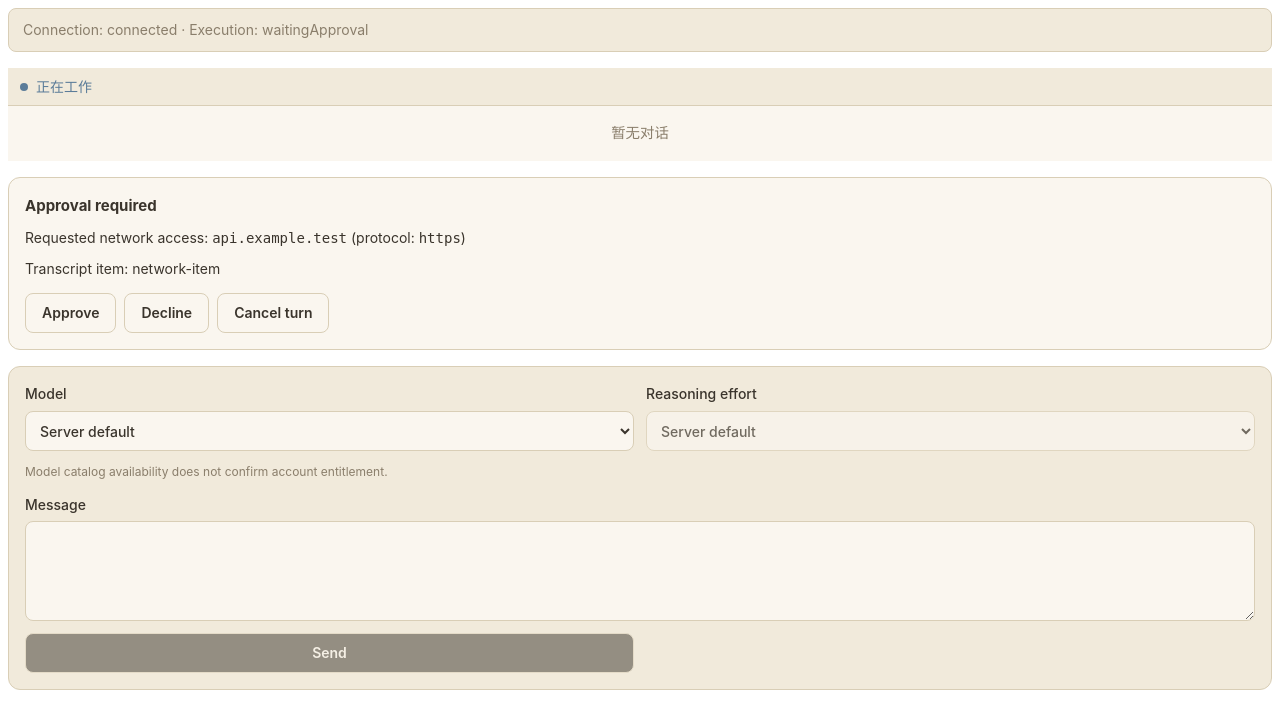
Test: CodexSession › shows a context-only https network approval and preserves reply identity
The image size is (1280, 720).
Expected: the element named "Request network-request" shows "Transcript item: network-item", top-left (8, 177), bottom-right (1272, 350)
Expected: the button "Decline" is enabled, top-left (124, 293), bottom-right (209, 333)
Click the button "Approve". click: (71, 313)
box: top-left (25, 293), bottom-right (116, 333)
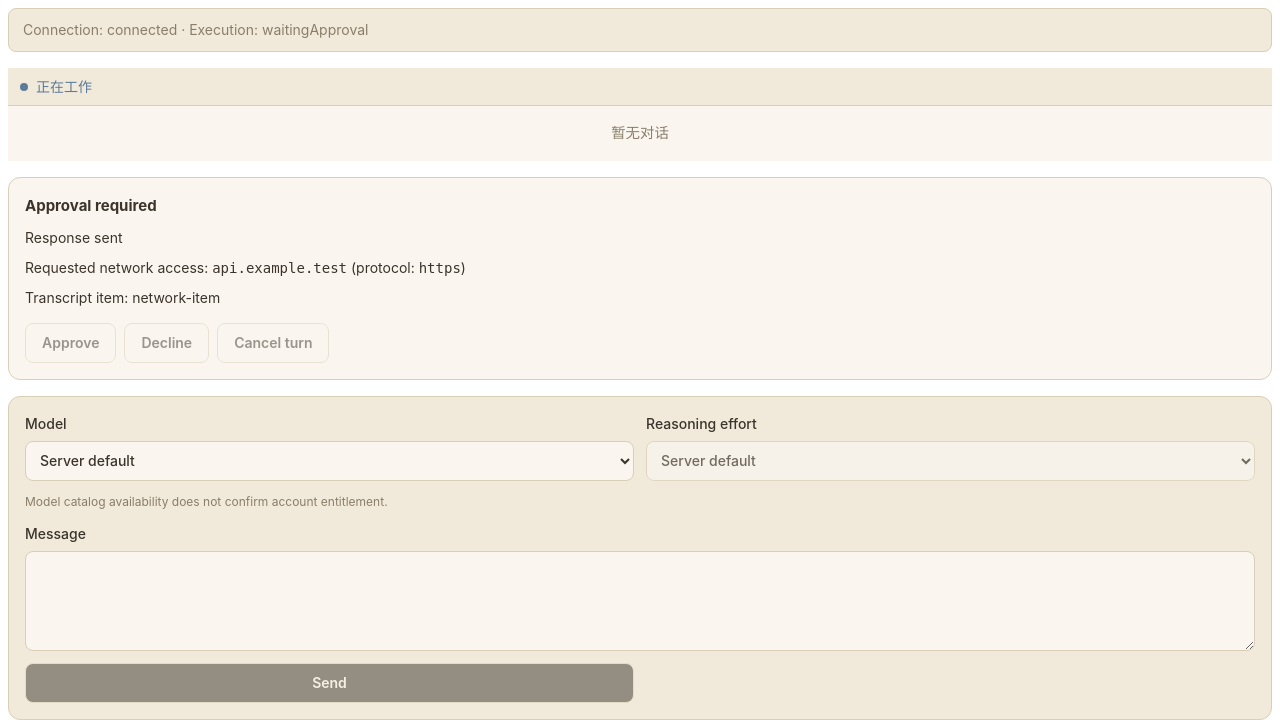
Now the text "Response sent" is shown, box top-left (25, 229), bottom-right (122, 246)
Now the button "Approve" is disabled, box top-left (25, 323), bottom-right (116, 363)
